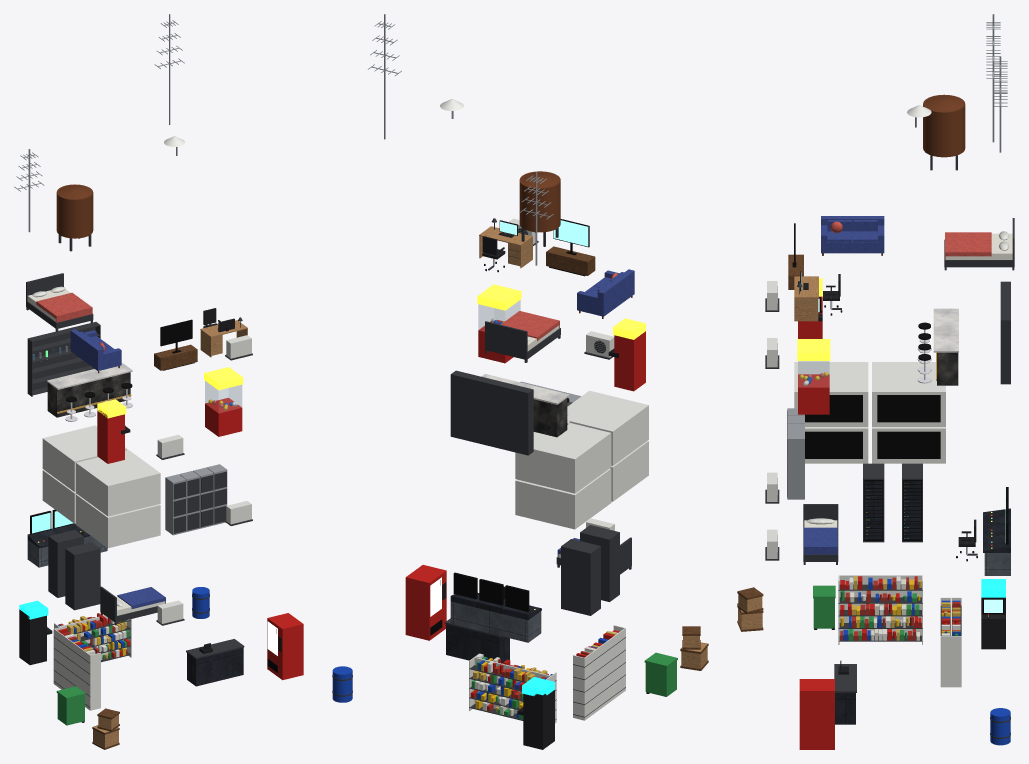
Rendered from i_tower_cyber_narrow.gltf.
The picture shows the model from 3 angles, left to right: view 1: azimuth 30°, elevation 25°; view 2: azimuth 150°, elevation 25°; view 3: azimuth 270°, elevation 25°; orthographic projection. The views are drawn at different scales.
Visible parts, largest first — view 1: I_tower_cyber_narrow; view 2: I_tower_cyber_narrow; view 3: I_tower_cyber_narrow.
Boxes of the visible parts, x1,y1,x2,y2 form: I_tower_cyber_narrow: [14, 14, 303, 749]; I_tower_cyber_narrow: [332, 14, 708, 749]; I_tower_cyber_narrow: [737, 14, 1014, 749].
Bounding box in the file's own units: 8.77 × 22.15 × 7.87.
40 materials, 10 textured.
